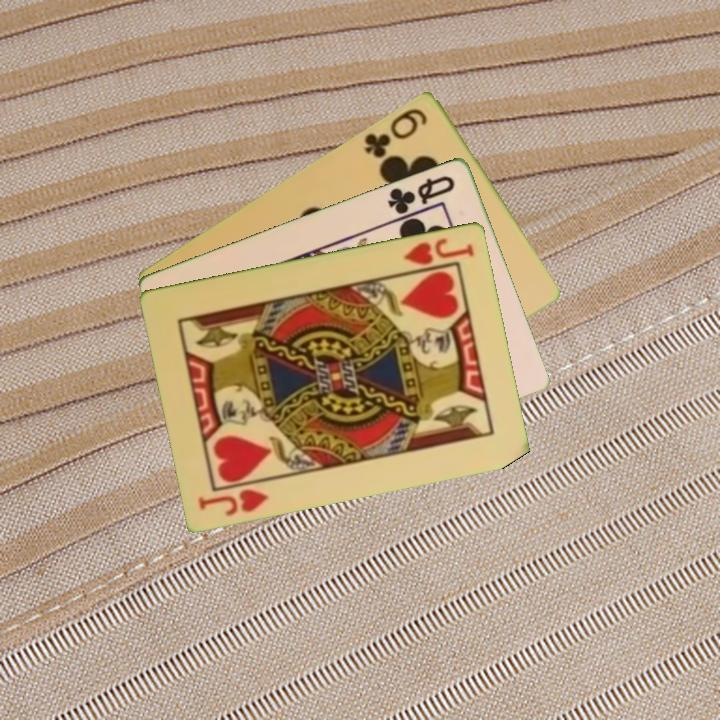6c: (360, 104, 431, 161)
Jh: (397, 234, 478, 276), (195, 485, 272, 519)
Qc: (384, 171, 458, 217)
